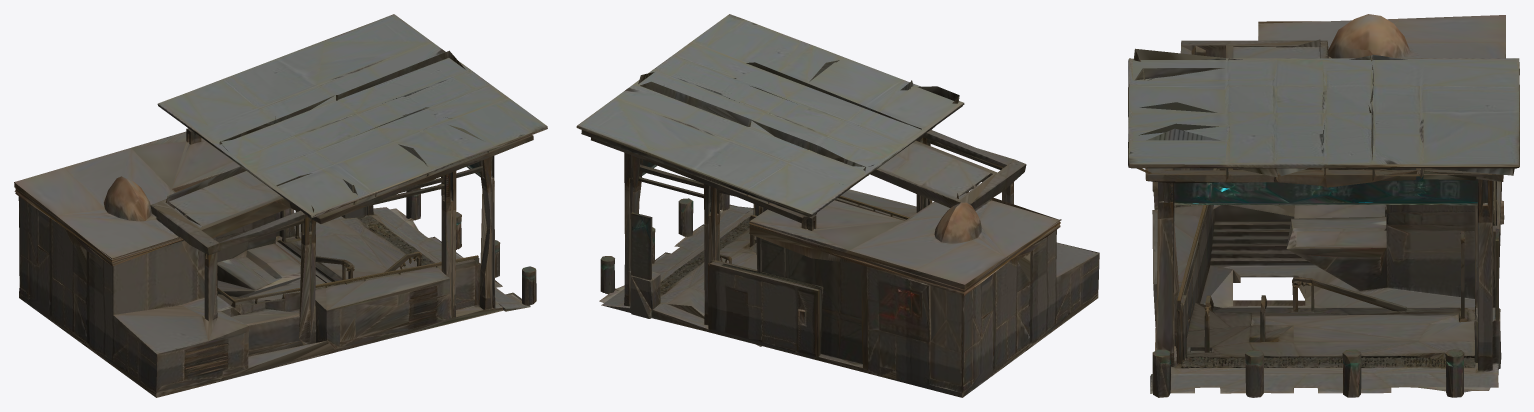
3 views of the same model, side by side, from view 1: azimuth 30°, elevation 25°; view 2: azimuth 150°, elevation 25°; view 3: azimuth 270°, elevation 25° (orthographic). The views are drawn at different scales.
Visible parts, largest first — view 1: s02; view 2: s02; view 3: s02.
Part boxes in pixels (left/top/right/bottom): s02: left=14, top=14, right=547, bottom=397; s02: left=576, top=14, right=1099, bottom=397; s02: left=1128, top=14, right=1519, bottom=397.
Bounding box in the file's own units: 12.05 × 6 × 8.33.
Materials: 1 (1 with a texture image).
